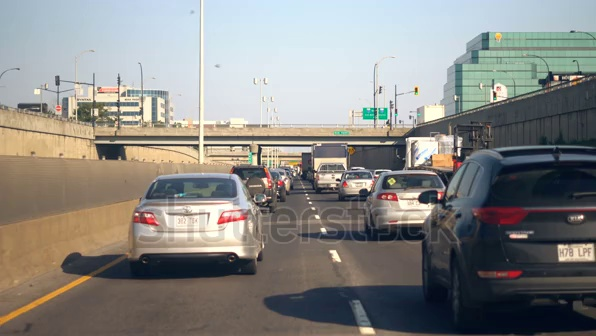licenseplate: (555, 242, 596, 262), (170, 217, 204, 227)
